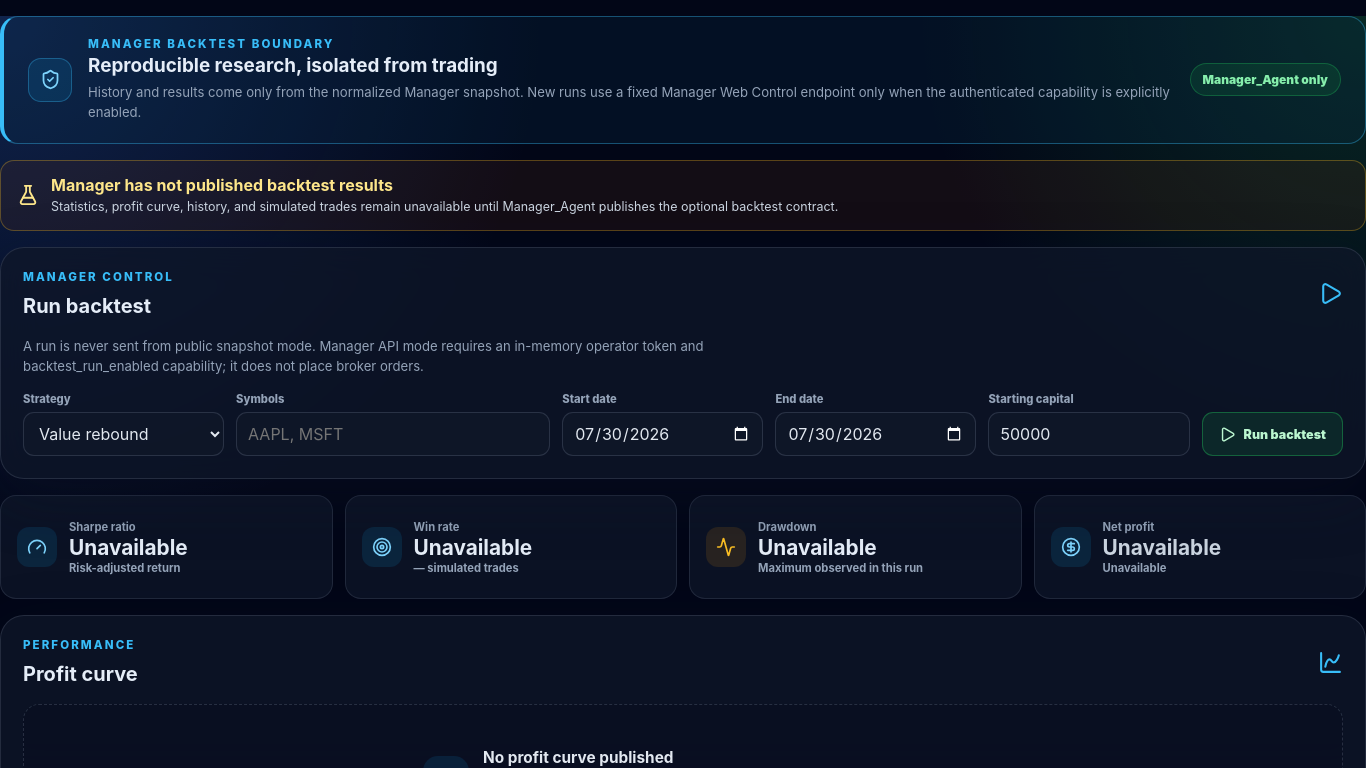
it: Backtest workspace › keeps absent Manager backtest data explicit and validates unsafe form input
Expected: the message shows "has not published backtest results", x1=51 y1=175 x2=393 y2=195
Type "$BAD" into the field labelled "Symbols" at (393, 434), box x1=236 y1=412 x2=550 y2=456
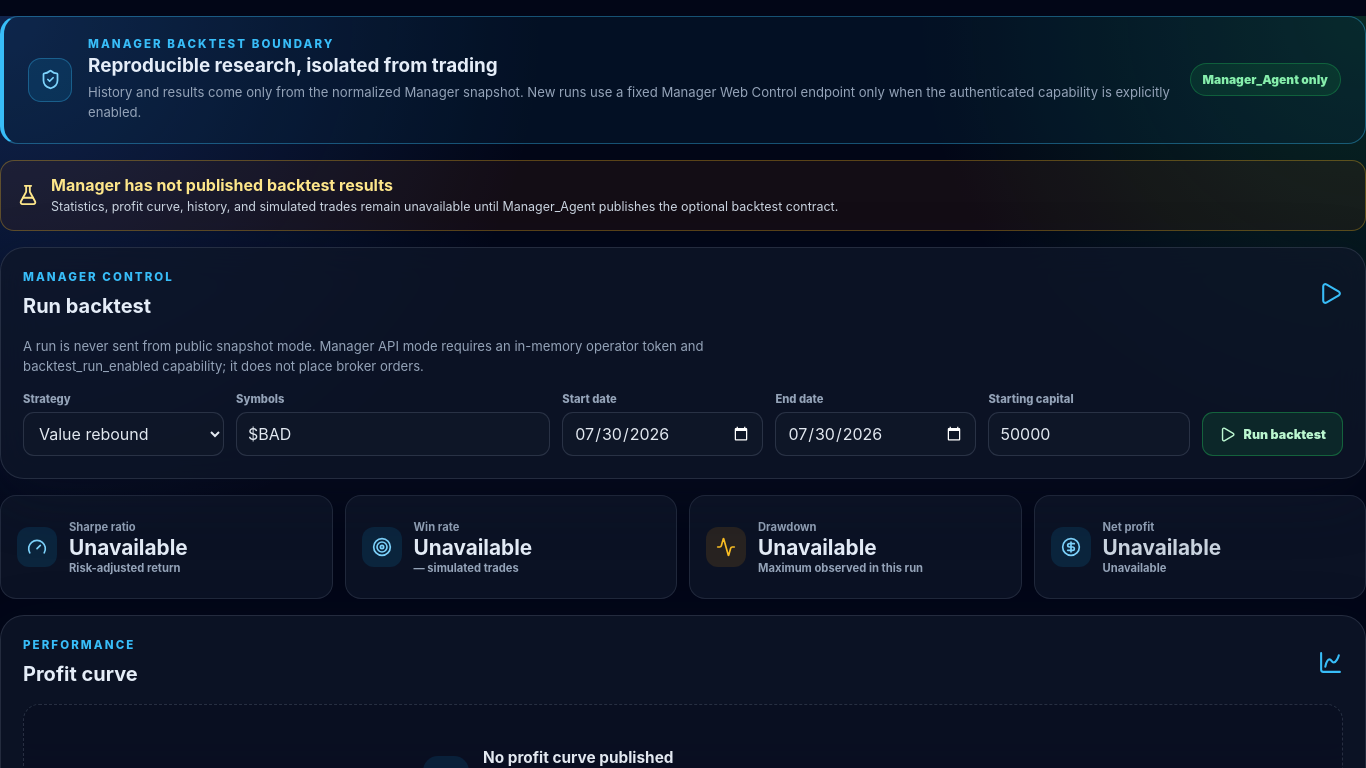
Click the button "Run backtest" at (1272, 434), box x1=1202 y1=412 x2=1343 y2=456
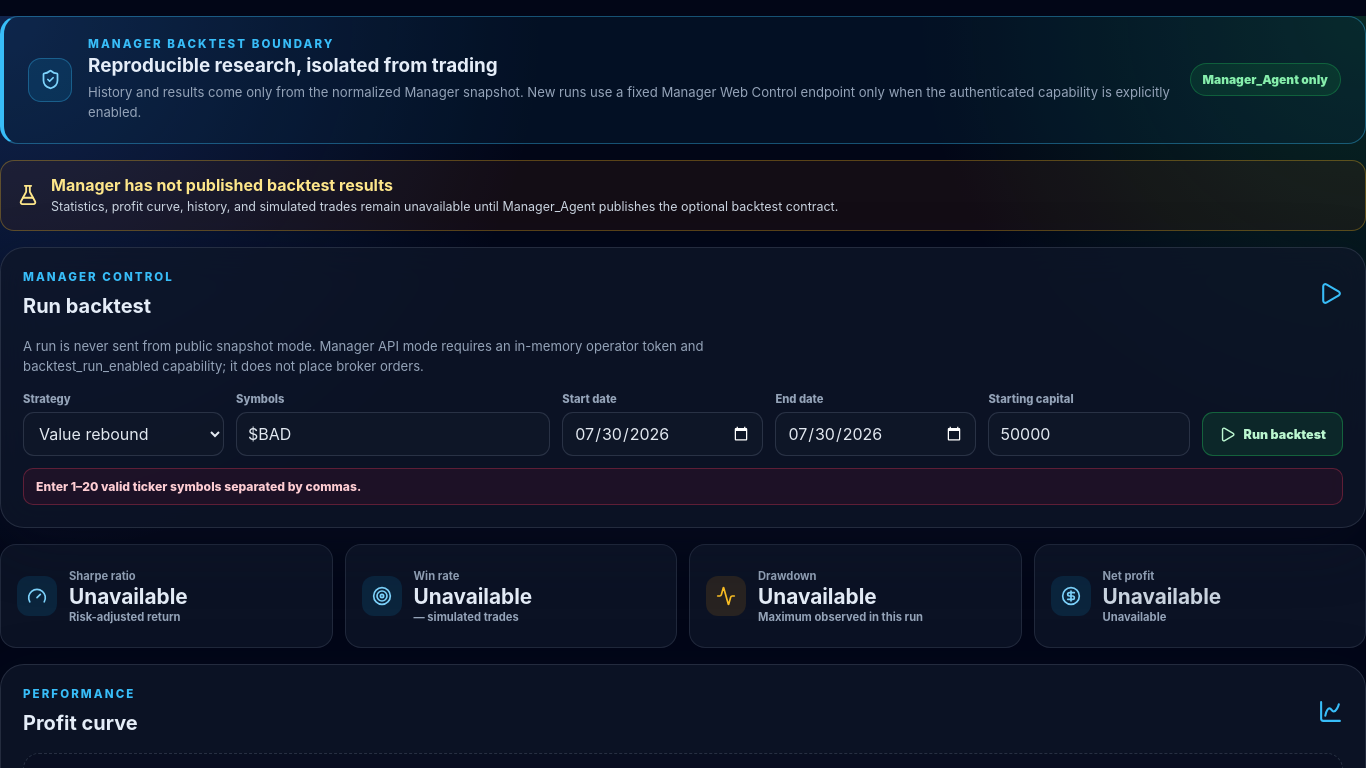
Expected: the text "Enter 1–20 valid ticker symbols separated by commas." is shown, x1=23 y1=468 x2=1343 y2=506
